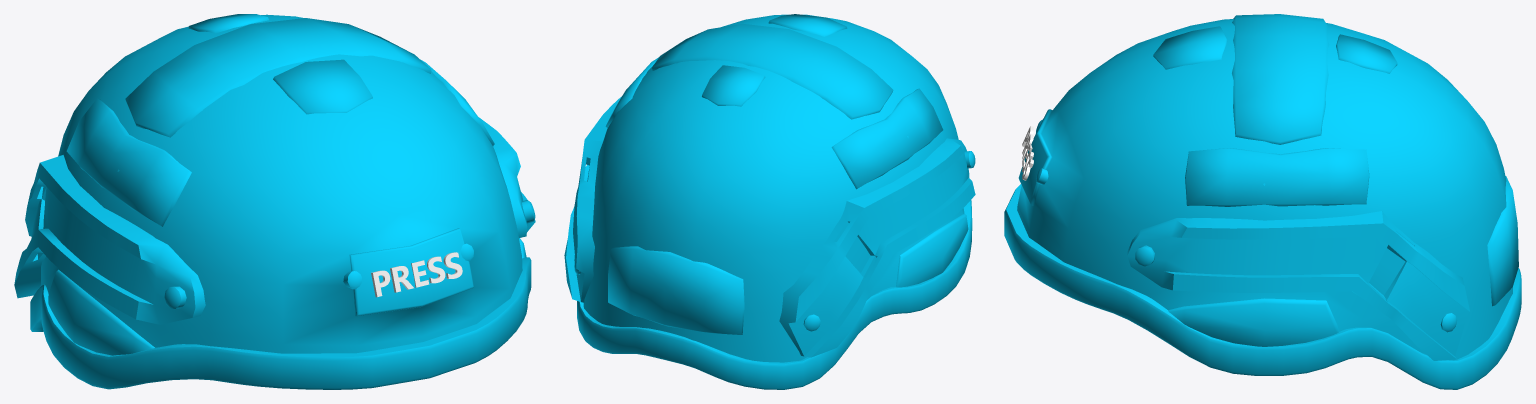
The model's file is SaudiHelmet.glb.
The picture shows the model from 3 angles, left to right: view 1: azimuth 30°, elevation 25°; view 2: azimuth 150°, elevation 25°; view 3: azimuth 270°, elevation 25°; orthographic projection. The views are drawn at different scales.
Visible parts, largest first — view 1: HELM, Press; view 2: HELM; view 3: HELM, Press.
Part boxes in pixels (x1=…): HELM: x1=14, y1=14, x2=535, y2=389; Press: x1=371, y1=252, x2=462, y2=297; HELM: x1=564, y1=14, x2=975, y2=389; HELM: x1=1004, y1=14, x2=1521, y2=389; Press: x1=1022, y1=126, x2=1033, y2=180.
Size of the model in its own units: 0.1638 by 0.1223 by 0.195.
